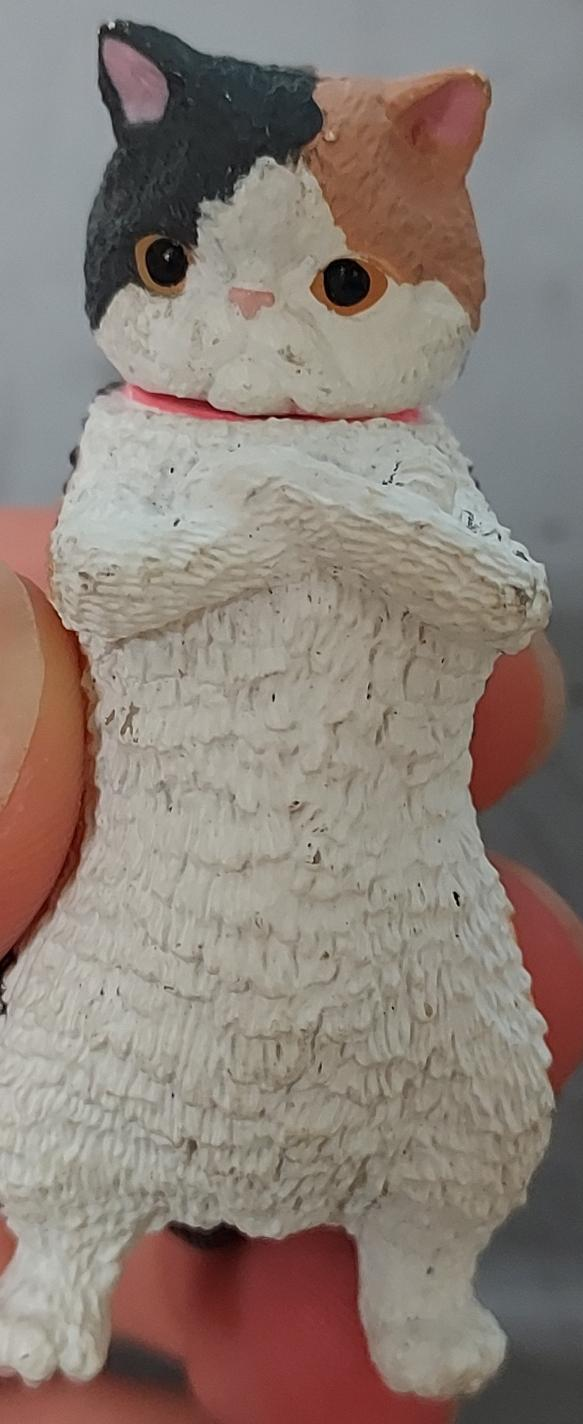cat: (1, 0, 583, 1424)
